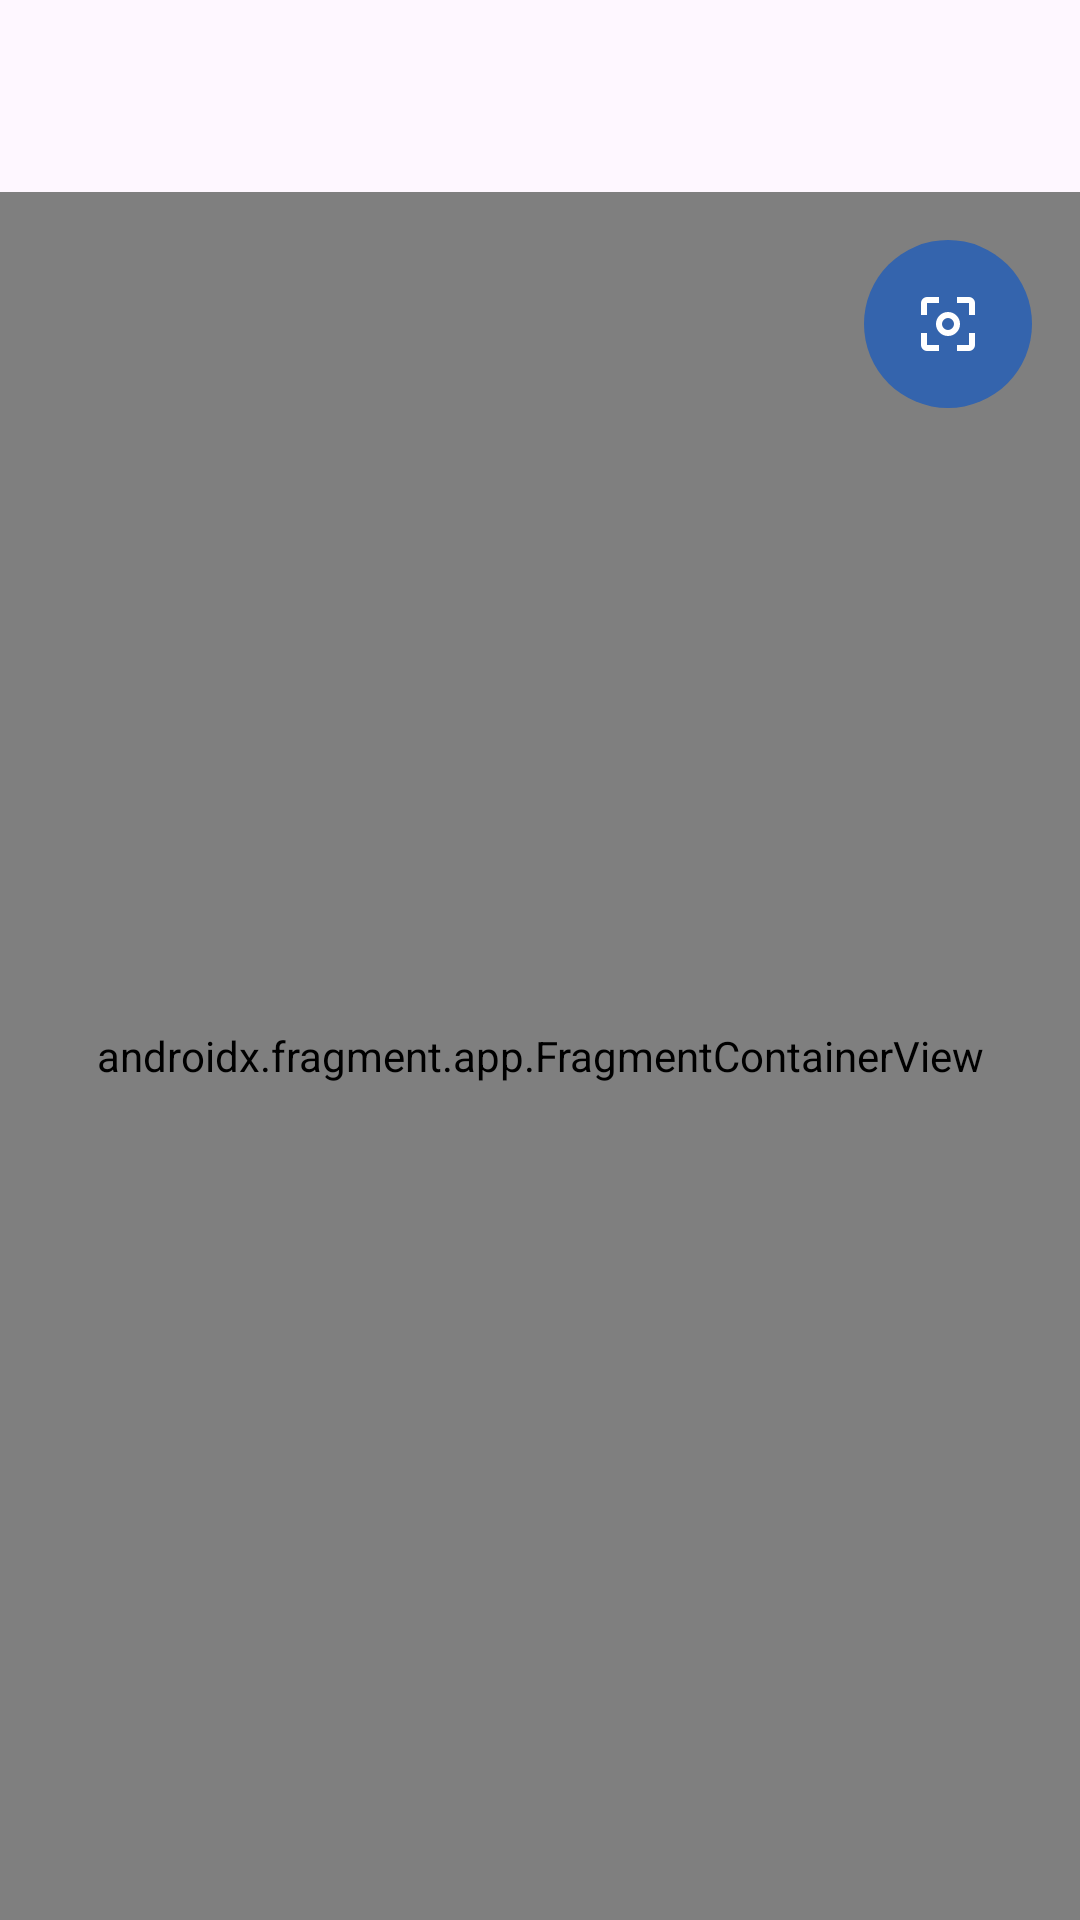

Named icons in this screenshot (1080*1920) and their bounding boxes, detection(x1, y1, x2, y2):
center focus: detection(864, 240, 1032, 408)
